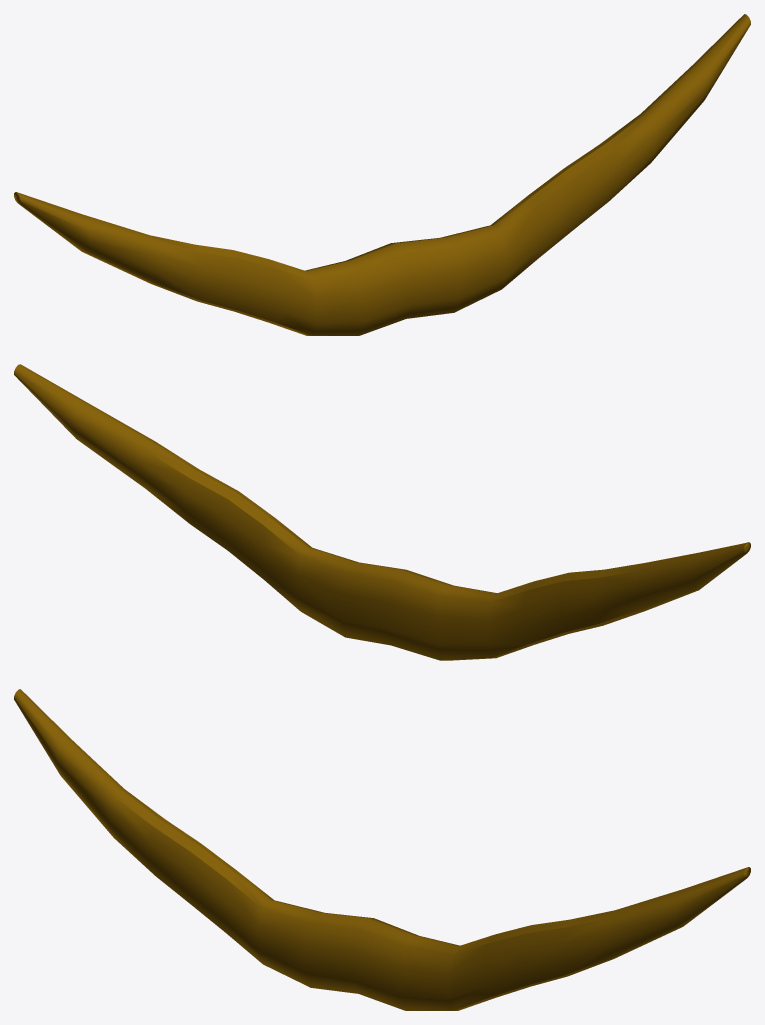
The model's file is mustache.fbx.
3 renders of one model, top to bottom at view 1: azimuth 30°, elevation 25°; view 2: azimuth 150°, elevation 25°; view 3: azimuth 330°, elevation 25°, orthographic.
Parts seen in each view (by area): view 1: pPlane5; view 2: pPlane5; view 3: pPlane5.
Boxes of the visible parts, box(x1,y1,x2,y2) form: pPlane5: box(14, 14, 750, 335); pPlane5: box(14, 364, 750, 660); pPlane5: box(14, 689, 750, 1010).
Bounding box in the file's own units: 307 × 83.65 × 24.83.
